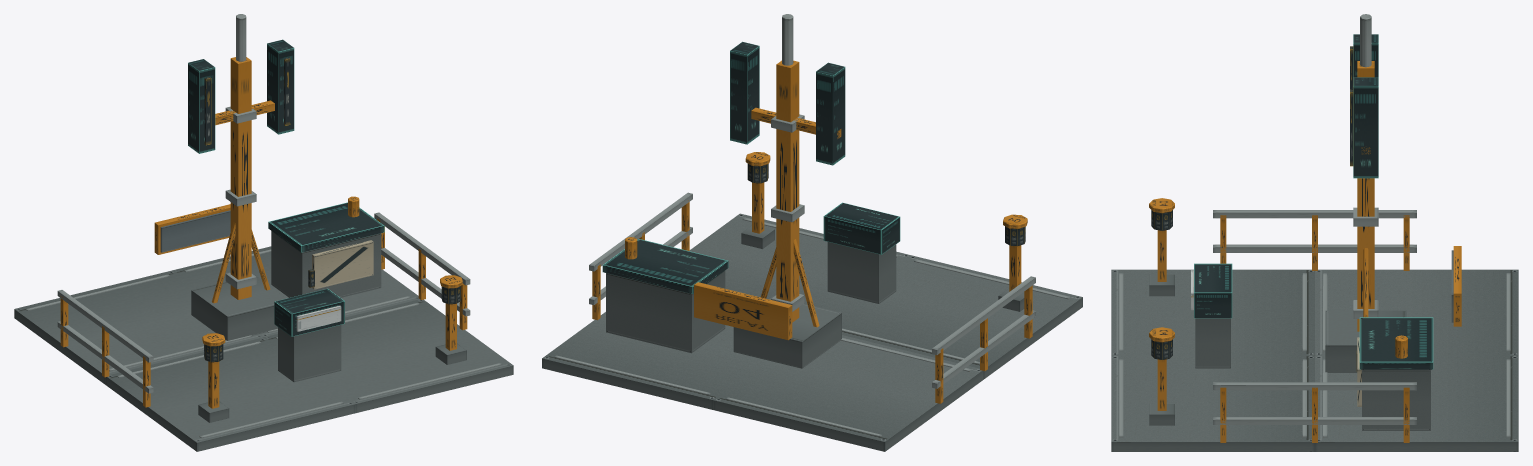
The model's file is RelayPlatform_LOD2.obj.
3 views of the same model, side by side, from view 1: azimuth 30°, elevation 25°; view 2: azimuth 150°, elevation 25°; view 3: azimuth 270°, elevation 25° (orthographic). The views are drawn at different scales.
Parts seen in each view (by area): view 1: 004_relay_mast.002, 000_floor_4m.018, 002_floor_4m.010, 001_floor_4m.010, 006_generator.002, 005_console.002, 003_floor_4m.006, 007_railing_4m.002, 009_sign_relay.002, 008_railing_4m.002, 010_beacon.002, 011_beacon.002; view 2: 004_relay_mast.002, 001_floor_4m.010, 000_floor_4m.018, 003_floor_4m.006, 006_generator.002, 005_console.002, 002_floor_4m.010, 009_sign_relay.002, 007_railing_4m.002, 008_railing_4m.002, 011_beacon.002, 010_beacon.002; view 3: 002_floor_4m.010, 000_floor_4m.018, 003_floor_4m.006, 001_floor_4m.010, 004_relay_mast.002, 006_generator.002, 008_railing_4m.002, 007_railing_4m.002, 005_console.002, 010_beacon.002, 011_beacon.002, 009_sign_relay.002.
Boxes of the visible parts, left/top/right/bottom form: 004_relay_mast.002: left=188, top=14, right=294, bottom=340; 000_floor_4m.018: left=105, top=337, right=355, bottom=451; 002_floor_4m.010: left=264, top=299, right=513, bottom=413; 001_floor_4m.010: left=14, top=270, right=263, bottom=384; 006_generator.002: left=268, top=196, right=384, bottom=297; 005_console.002: left=274, top=288, right=344, bottom=382; 003_floor_4m.006: left=173, top=246, right=419, bottom=337; 007_railing_4m.002: left=57, top=290, right=153, bottom=407; 009_sign_relay.002: left=154, top=204, right=230, bottom=254; 008_railing_4m.002: left=374, top=212, right=470, bottom=330; 010_beacon.002: left=198, top=333, right=229, bottom=422; 011_beacon.002: left=435, top=275, right=466, bottom=364; 004_relay_mast.002: left=730, top=14, right=845, bottom=368; 001_floor_4m.010: left=713, top=335, right=983, bottom=451; 000_floor_4m.018: left=835, top=255, right=1082, bottom=378; 003_floor_4m.006: left=542, top=312, right=767, bottom=409; 006_generator.002: left=602, top=237, right=728, bottom=353; 005_console.002: left=823, top=202, right=900, bottom=303; 002_floor_4m.010: left=689, top=213, right=910, bottom=310; 009_sign_relay.002: left=694, top=282, right=792, bottom=340; 007_railing_4m.002: left=932, top=276, right=1035, bottom=403; 008_railing_4m.002: left=589, top=192, right=692, bottom=320; 011_beacon.002: left=741, top=152, right=774, bottom=248; 010_beacon.002: left=998, top=214, right=1027, bottom=311; 002_floor_4m.010: left=1111, top=355, right=1314, bottom=451; 000_floor_4m.018: left=1111, top=269, right=1314, bottom=355; 003_floor_4m.006: left=1315, top=355, right=1518, bottom=451; 001_floor_4m.010: left=1315, top=269, right=1518, bottom=355; 004_relay_mast.002: left=1325, top=14, right=1406, bottom=372; 006_generator.002: left=1356, top=317, right=1433, bottom=430; 008_railing_4m.002: left=1213, top=382, right=1416, bottom=442; 007_railing_4m.002: left=1213, top=210, right=1416, bottom=270; 005_console.002: left=1191, top=263, right=1232, bottom=368; 010_beacon.002: left=1149, top=198, right=1174, bottom=296; 011_beacon.002: left=1149, top=327, right=1174, bottom=425; 009_sign_relay.002: left=1451, top=246, right=1461, bottom=326.
Bounding box in the file's own units: 8.12 × 7.57 × 8.
Materials: 1 (1 with a texture image).
